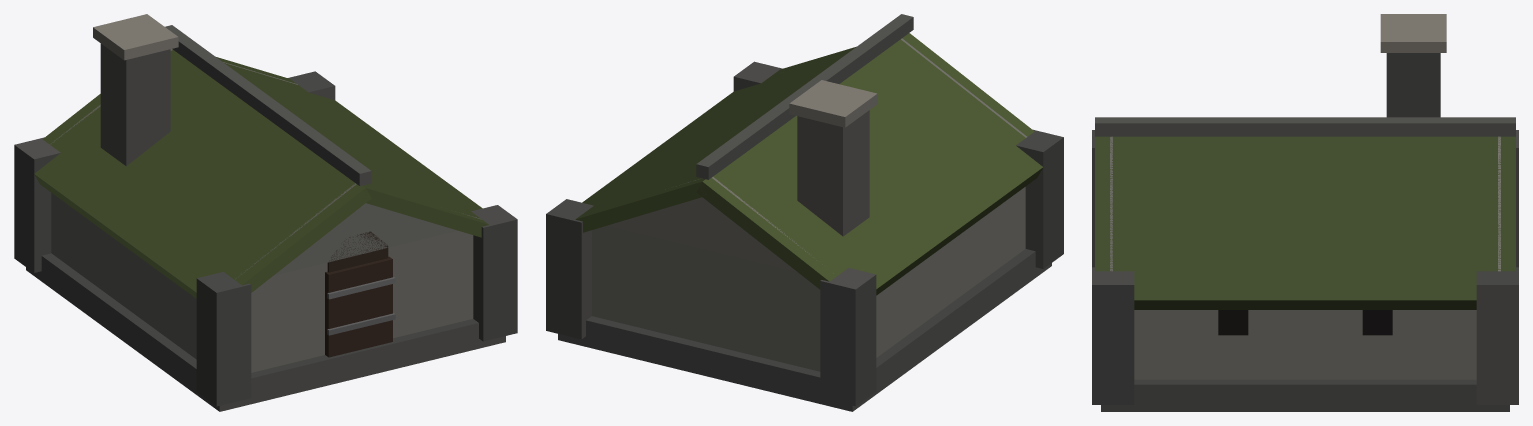
File: dwarf_house.glb
The picture shows the model from 3 angles, left to right: view 1: azimuth 30°, elevation 25°; view 2: azimuth 150°, elevation 25°; view 3: azimuth 270°, elevation 25°; orthographic projection. The views are drawn at different scales.
Parts seen in each view (by area): view 1: dwarf_house; view 2: dwarf_house; view 3: dwarf_house.
Part boxes in pixels (x1,y1,x2,y2): dwarf_house: [14, 14, 517, 411]; dwarf_house: [546, 14, 1063, 411]; dwarf_house: [1092, 14, 1518, 411].
Bounding box in the file's own units: 6.1 × 4.95 × 7.1.
2 materials, 2 textured.
